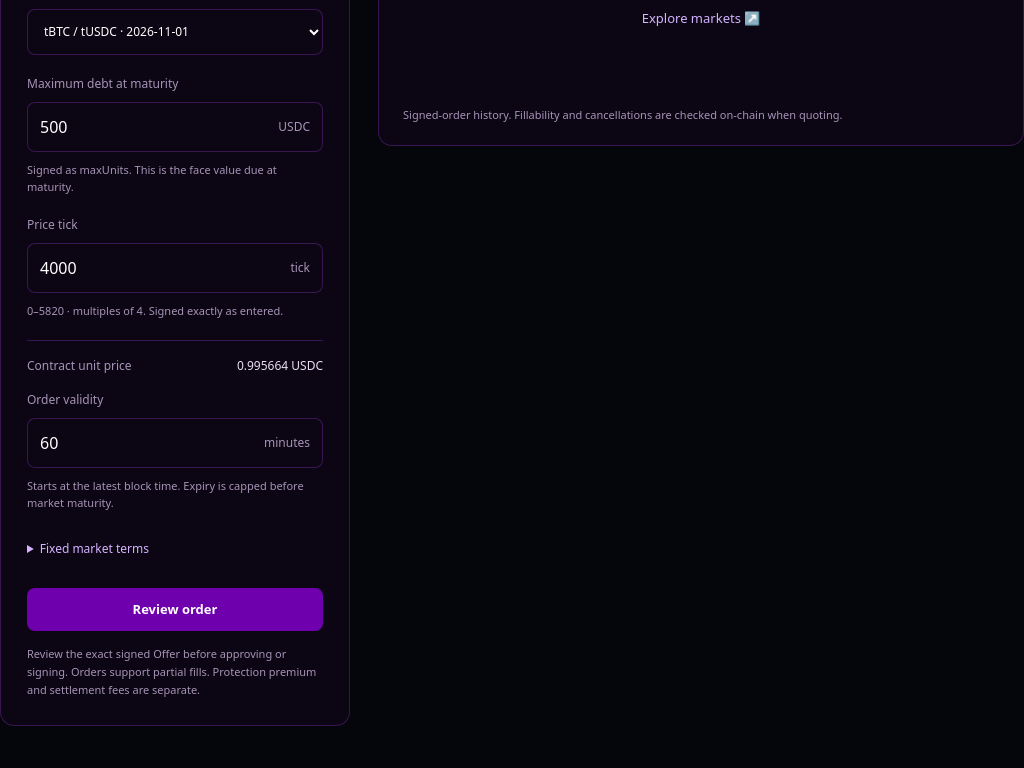
Test: rejects a preview that expires while awaiting confirmation
(page scrolled)
Step 1. Click the button "Review order" → (175, 609), box [27,588,323,631]
(page scrolled)
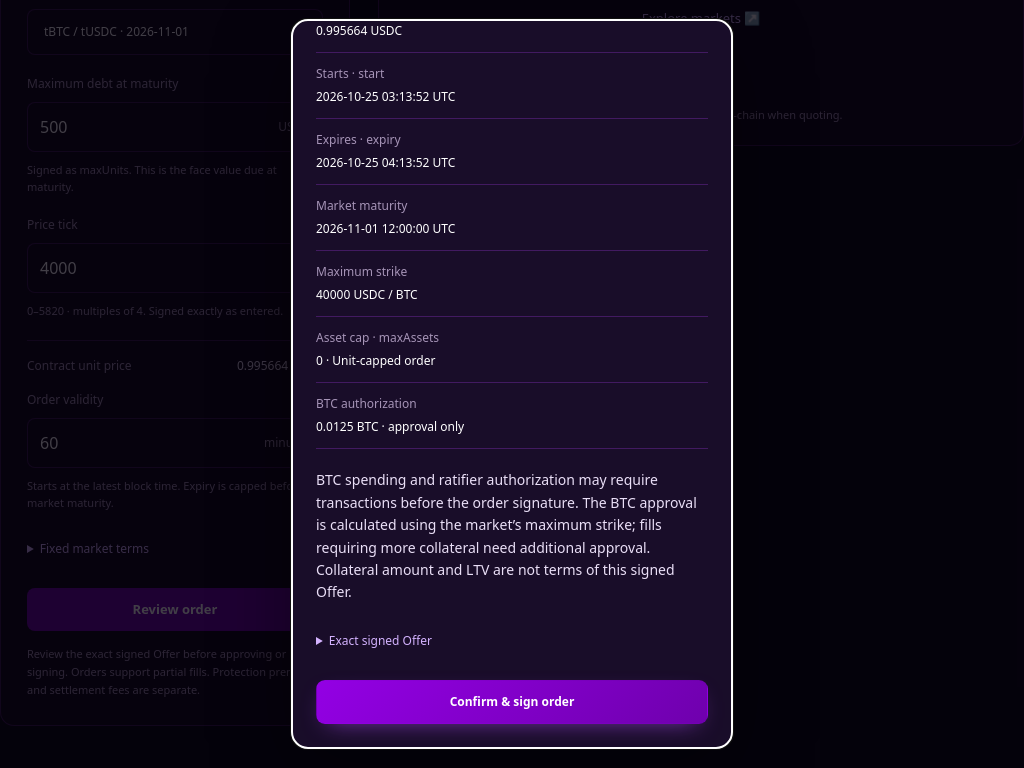
Step 2. Click the button "Confirm & sign order" → (512, 702), box [316,680,708,724]
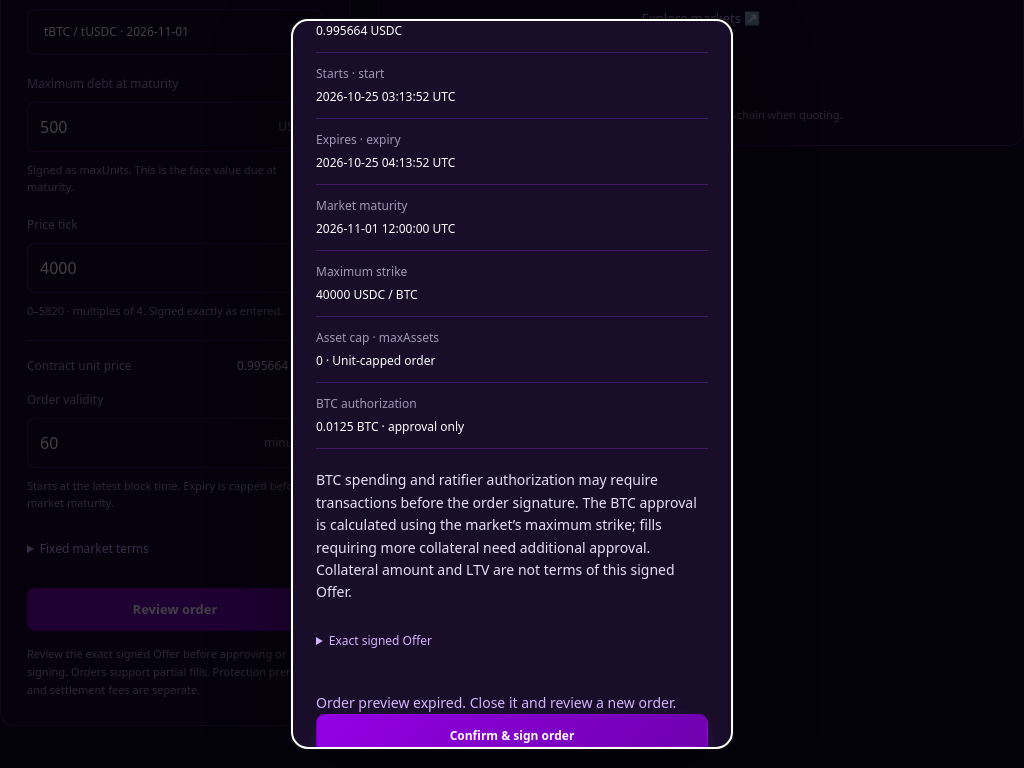
expect the message shows "preview expired": met, box [316,693,676,712]
